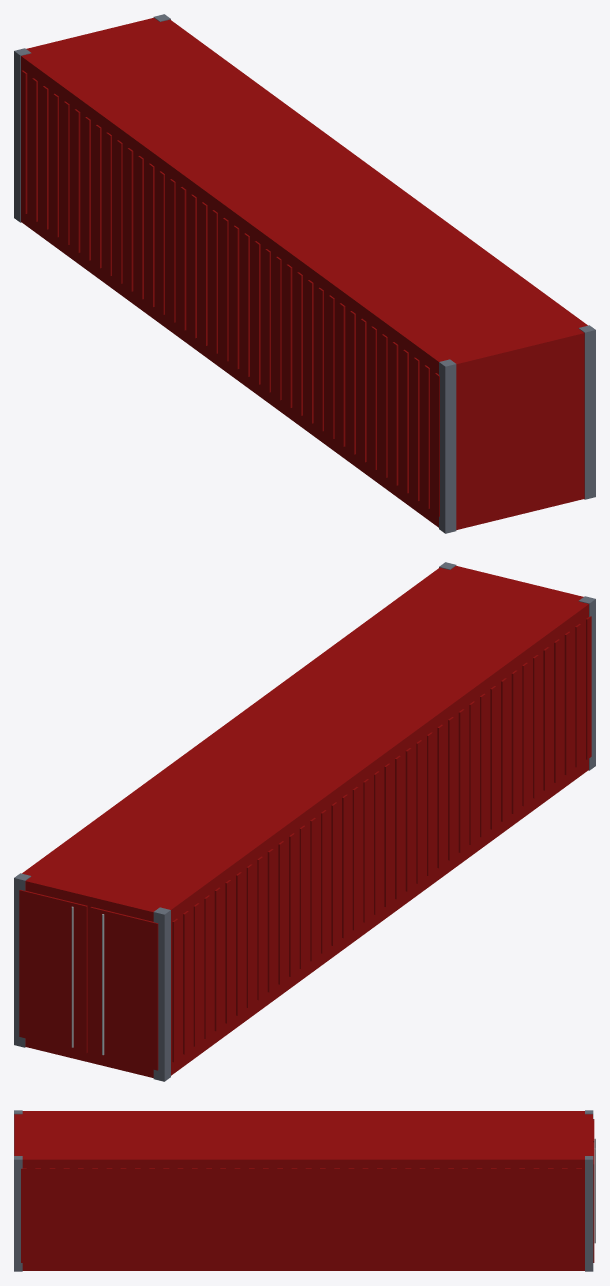
Rendered from plant.cabin.container_40.glb.
The picture shows the model from 3 angles, top to bottom: view 1: azimuth 30°, elevation 25°; view 2: azimuth 150°, elevation 25°; view 3: azimuth 270°, elevation 25°; orthographic projection. The views are drawn at different scales.
Visible parts, largest first — view 1: main__car_red, main__steel_painted; view 2: main__car_red, main__steel_painted, main__steel_galvanised; view 3: main__car_red, main__steel_painted.
Boxes of the visible parts, left/top/right/bottom form: main__car_red: left=21, top=17, right=587, bottom=529; main__steel_painted: left=14, top=14, right=595, bottom=533; main__car_red: left=19, top=565, right=591, bottom=1077; main__steel_painted: left=14, top=562, right=595, bottom=1081; main__steel_galvanised: left=71, top=906, right=104, bottom=1055; main__car_red: left=14, top=1111, right=594, bottom=1270; main__steel_painted: left=14, top=1110, right=593, bottom=1271.
Bounding box in the file's own units: 2.49 × 2.61 × 12.26.
